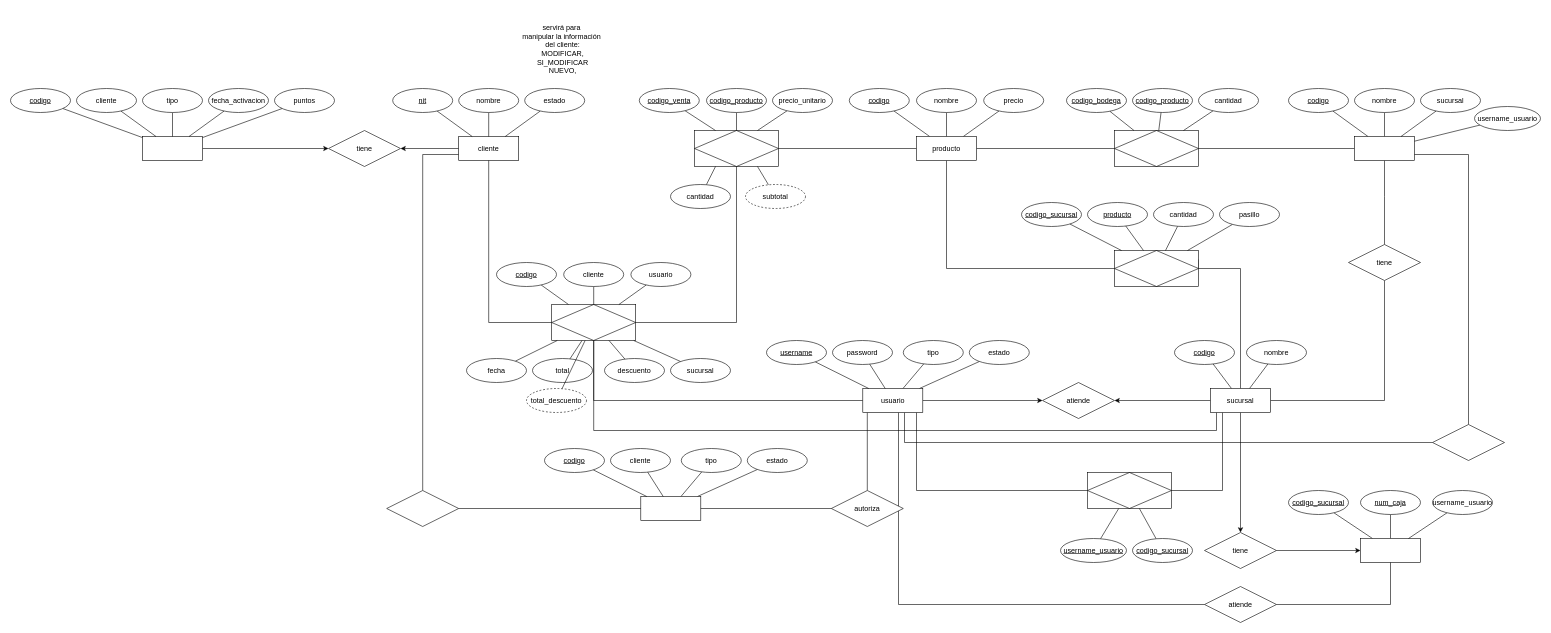
The diagram is 1551 pixels wide and 633 high, and some of its shapes have lost their labels. The box of each missing label's shape, as (x1, y1, x2, y2) in pixels:
bodega: (1354, 136, 1414, 160)
bodega_producto: (1114, 130, 1198, 166)
caja: (1360, 538, 1420, 562)
encargado: (1432, 424, 1504, 460)
productos_ventas: (694, 130, 778, 166)
realiza: (386, 490, 459, 526)
solicitud_tarjeta: (640, 496, 701, 520)
sucursal_producto: (1114, 250, 1198, 286)
sucursal_usuarios: (1087, 472, 1172, 508)
tarjeta: (142, 136, 202, 160)
venta: (551, 304, 636, 340)
